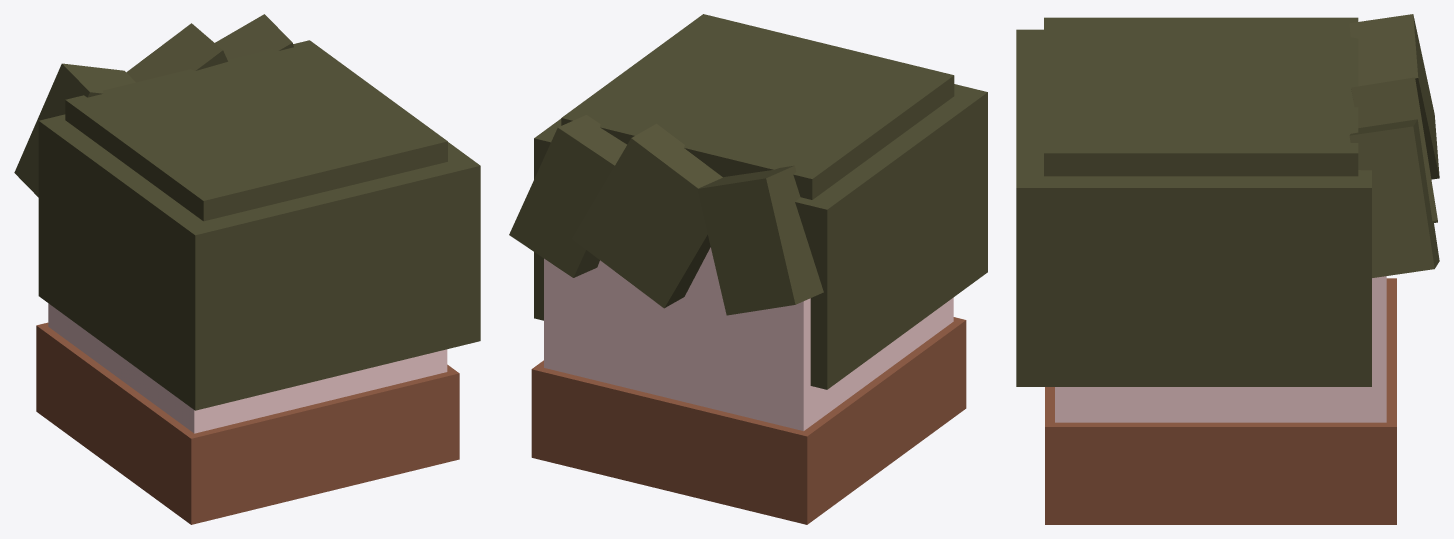
The model's file is Man1.fbx.
3 renders of one model, left to right at view 1: azimuth 30°, elevation 25°; view 2: azimuth 150°, elevation 25°; view 3: azimuth 270°, elevation 25°, orthographic. The views are drawn at different scales.
Parts seen in each view (by area): view 1: Cube.019; view 2: Cube.019; view 3: Cube.019.
Part boxes in pixels (x1,y1,x2,y2): Cube.019: (14,14,480,524); Cube.019: (509,14,987,524); Cube.019: (1016,14,1439,524).
Size of the model in its own units: 226 by 259 by 255.
